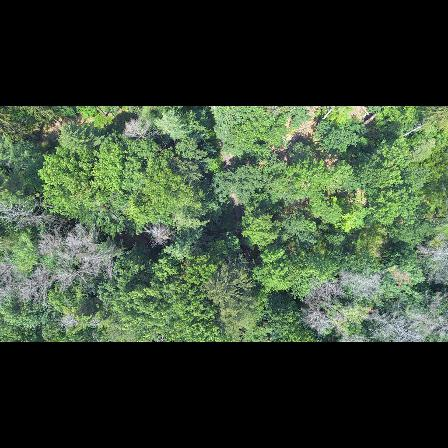Dead: (356, 311, 431, 342), (0, 202, 72, 232), (67, 246, 130, 275), (297, 287, 334, 336), (41, 222, 101, 252), (337, 266, 381, 299), (15, 275, 59, 305), (120, 115, 161, 144), (409, 244, 448, 274), (140, 223, 178, 249), (35, 259, 76, 278)
